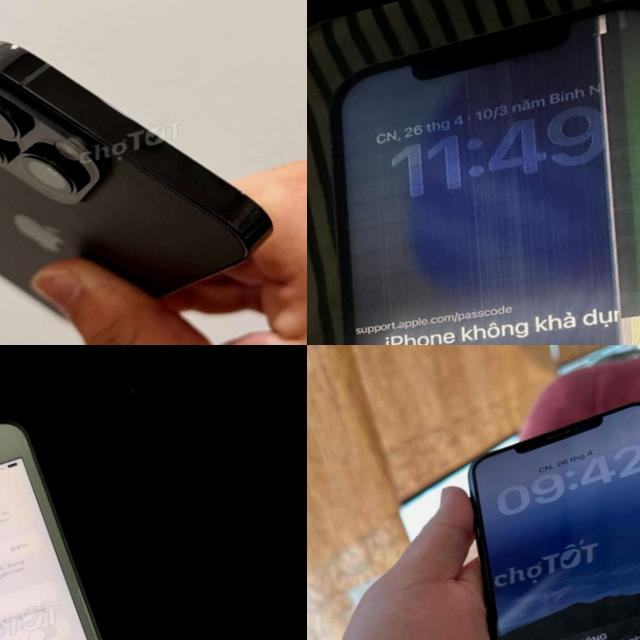gen_11: (441, 388, 640, 640)
gen_12_13: (307, 0, 640, 345)
gen_14: (0, 0, 299, 345)
gen_7_8: (0, 404, 168, 640)
